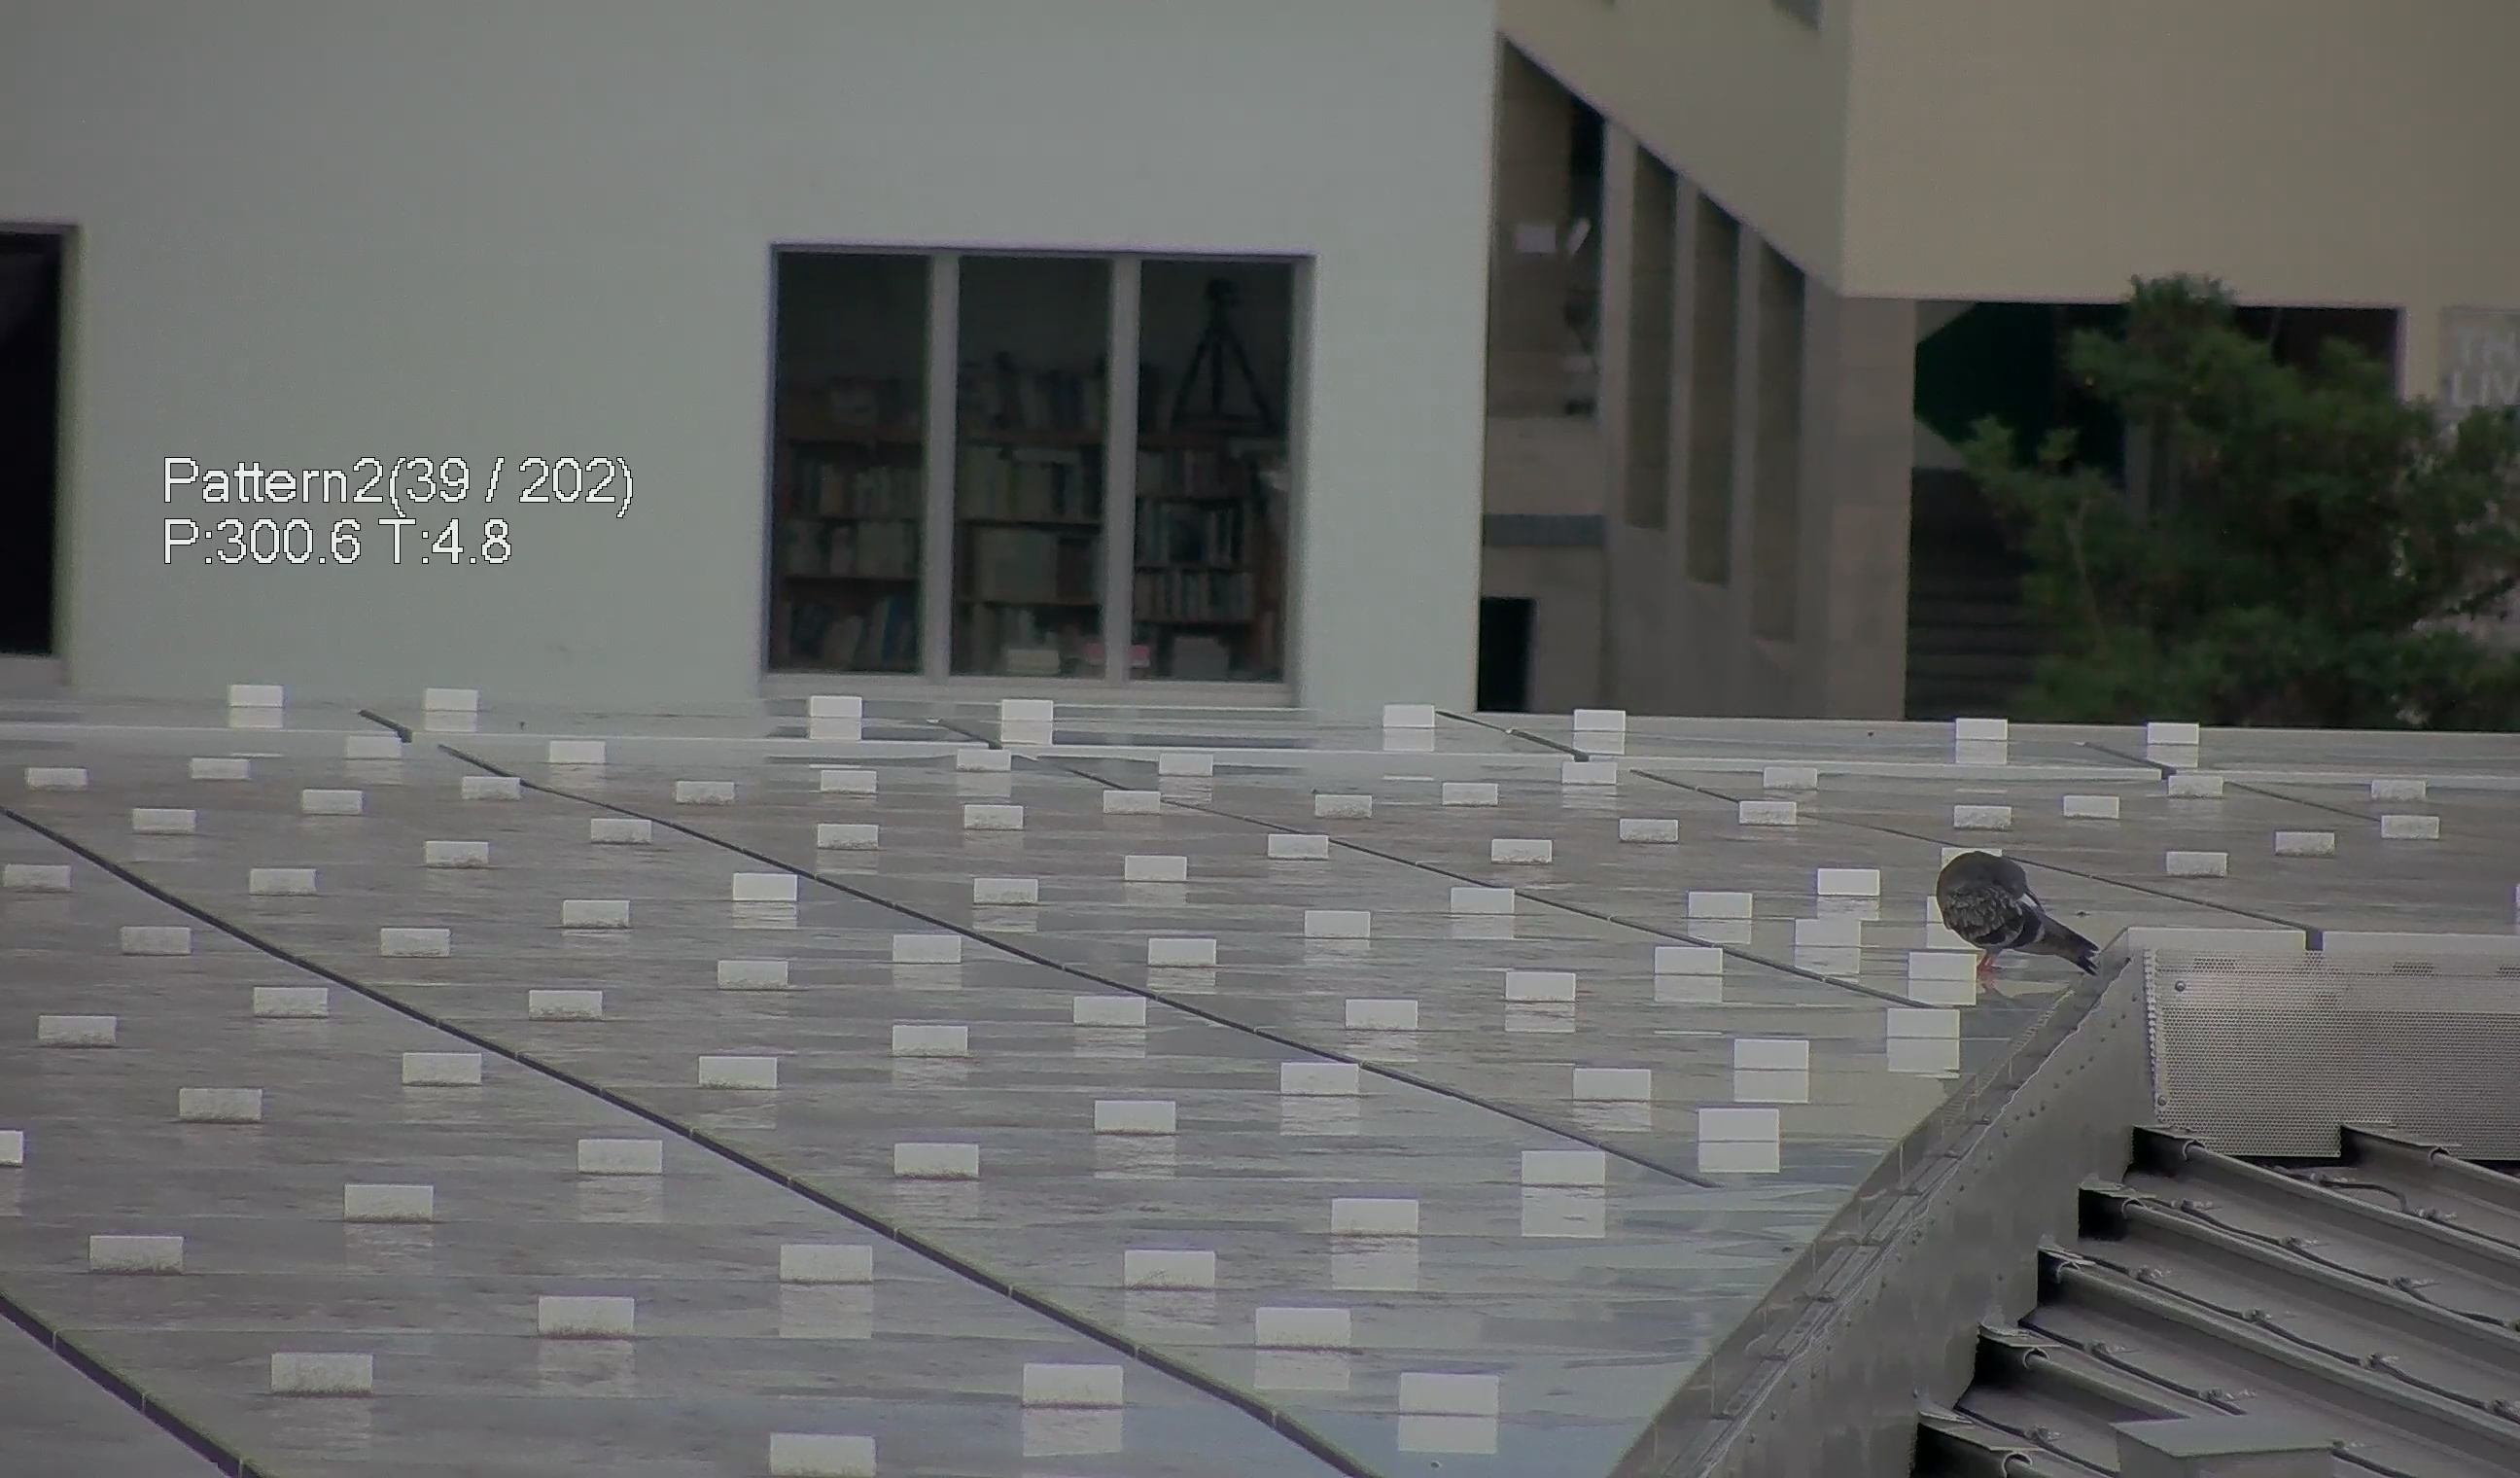Pigeon: (1931, 848, 2128, 991)
